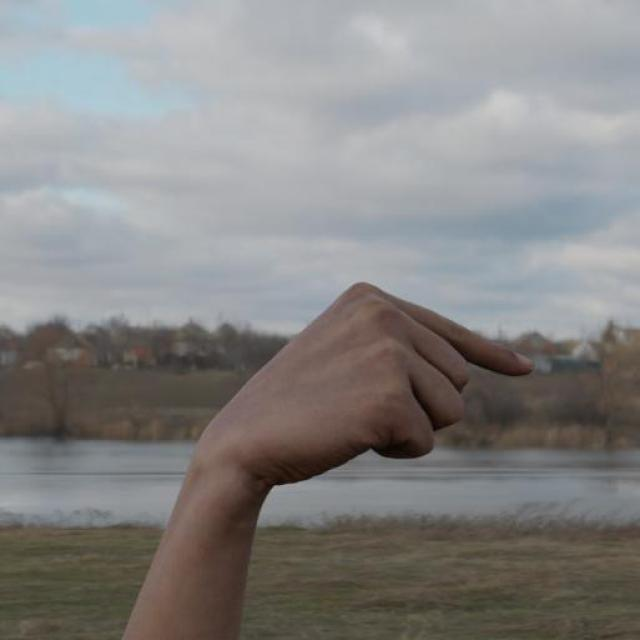G: (194, 279, 537, 492)
